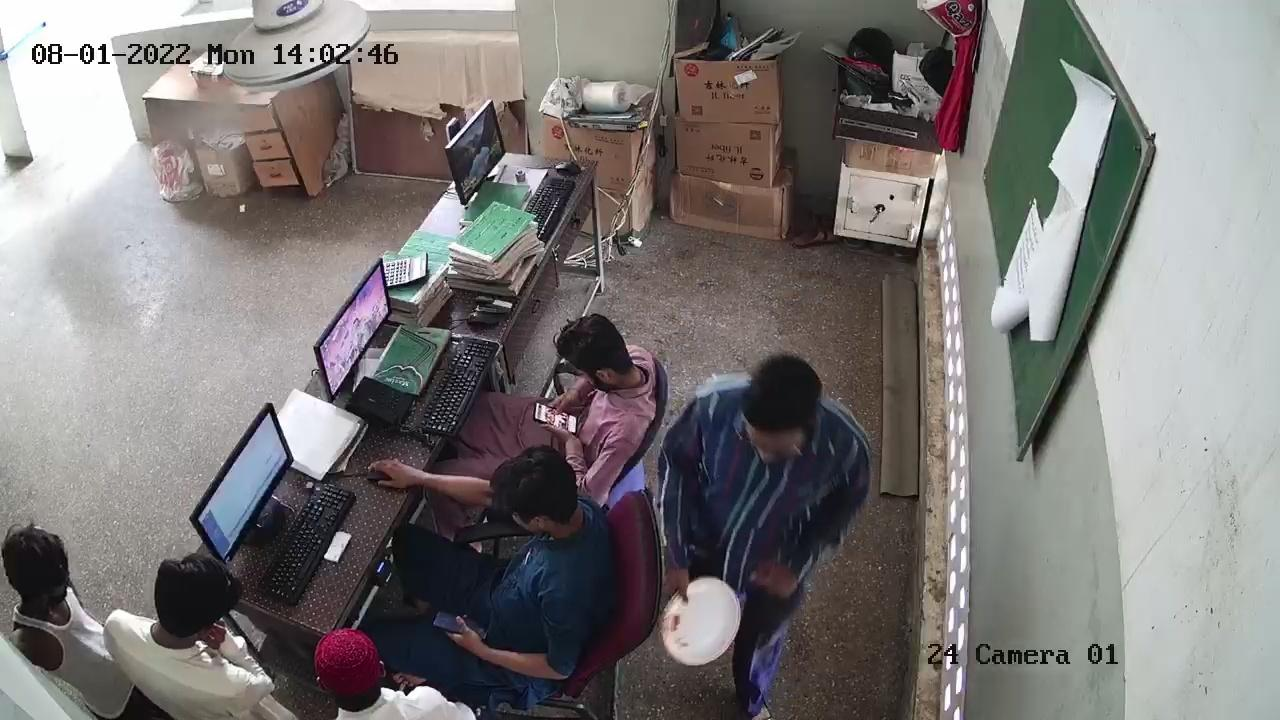person: (679, 368, 834, 720), (392, 448, 609, 647), (449, 317, 657, 473), (104, 565, 287, 720), (9, 523, 132, 707), (307, 632, 470, 720)
